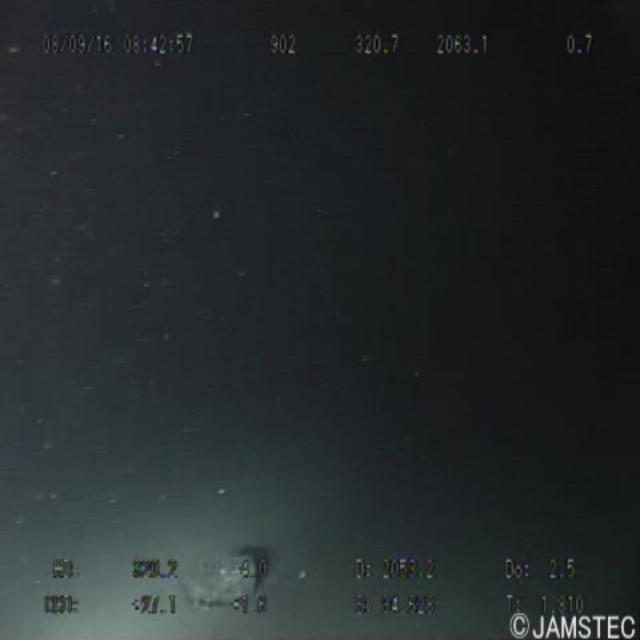Glass: (161, 530, 269, 613)
